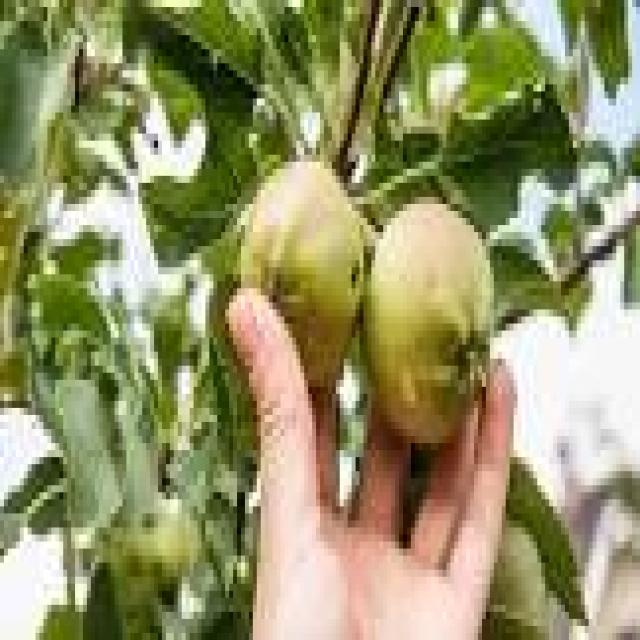apple: (363, 197, 490, 436), (241, 162, 363, 380)
